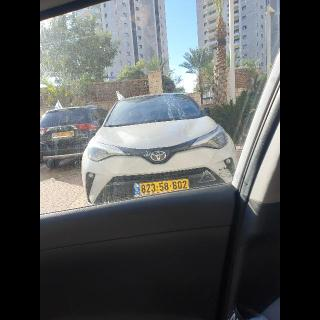LicensePlate: (139, 179, 189, 194)
